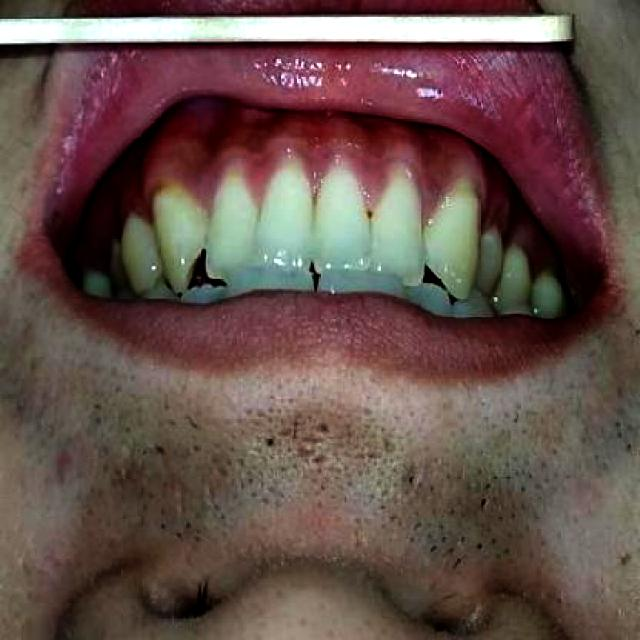Plaque: (427, 172, 480, 230), (155, 183, 202, 211), (483, 207, 502, 232), (364, 209, 378, 221)
